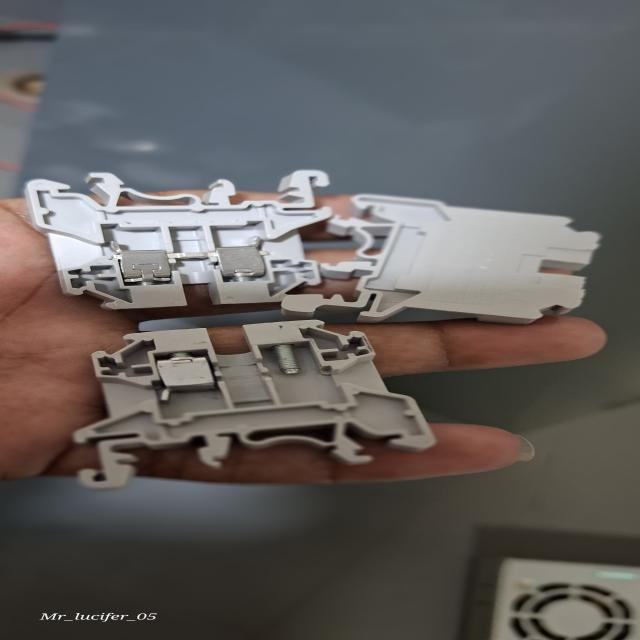Inverted: (321, 192, 603, 320)
Pass: (21, 166, 333, 309)
Reject: (62, 317, 436, 493)
